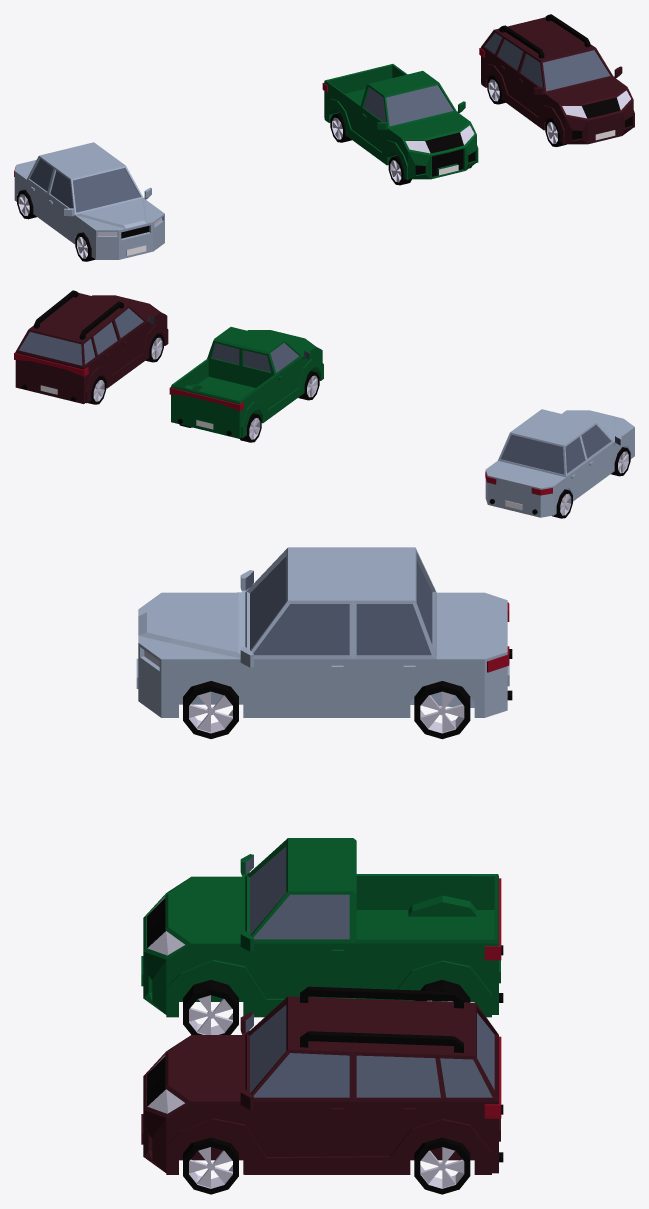
Rendered from vehicles.glb.
The picture shows the model from 3 angles, top to bottom: view 1: azimuth 30°, elevation 25°; view 2: azimuth 150°, elevation 25°; view 3: azimuth 270°, elevation 25°; orthographic projection. The views are drawn at different scales.
Visible parts, largest first — view 1: SUV, Pickup, Sedan, Pickup wheel front right, Pickup wheel rear right, Sedan wheel front right, Sedan wheel rear right, SUV wheel front right; view 2: SUV, Pickup, Sedan, Sedan wheel rear right, Pickup wheel front right, Sedan wheel front right, Pickup wheel rear right, SUV wheel rear right, SUV wheel front right; view 3: SUV, Sedan, Pickup, Sedan wheel rear left, Pickup wheel front left, Sedan wheel front left, SUV wheel rear left, SUV wheel front left.
Boxes of the visible parts, x1,y1,x2,y2 form: SUV: (479, 14, 634, 144); Pickup: (322, 64, 478, 179); Sedan: (14, 142, 164, 259); Pickup wheel front right: (388, 155, 411, 185); Pickup wheel rear right: (330, 113, 351, 142); Sedan wheel front right: (75, 232, 94, 261); Sedan wheel rear right: (17, 189, 36, 219); SUV wheel front right: (545, 118, 566, 146); SUV: (14, 290, 168, 403); Pickup: (169, 327, 323, 438); Sedan: (485, 409, 634, 517); Sedan wheel rear right: (552, 489, 572, 518); Pickup wheel front right: (298, 371, 319, 400); Sedan wheel front right: (611, 447, 630, 476); Pickup wheel rear right: (240, 413, 261, 442); SUV wheel rear right: (88, 376, 106, 404); SUV wheel front right: (145, 333, 163, 362); SUV: (141, 986, 503, 1174); Sedan: (136, 547, 512, 717); Pickup: (141, 838, 503, 1017); Sedan wheel rear left: (414, 681, 470, 739); Pickup wheel front left: (183, 980, 238, 1034); Sedan wheel front left: (183, 681, 238, 738); SUV wheel rear left: (414, 1137, 470, 1194); SUV wheel front left: (183, 1137, 238, 1194).
Bounding box in the file's own units: 17.81 × 2.3 × 5.23.
